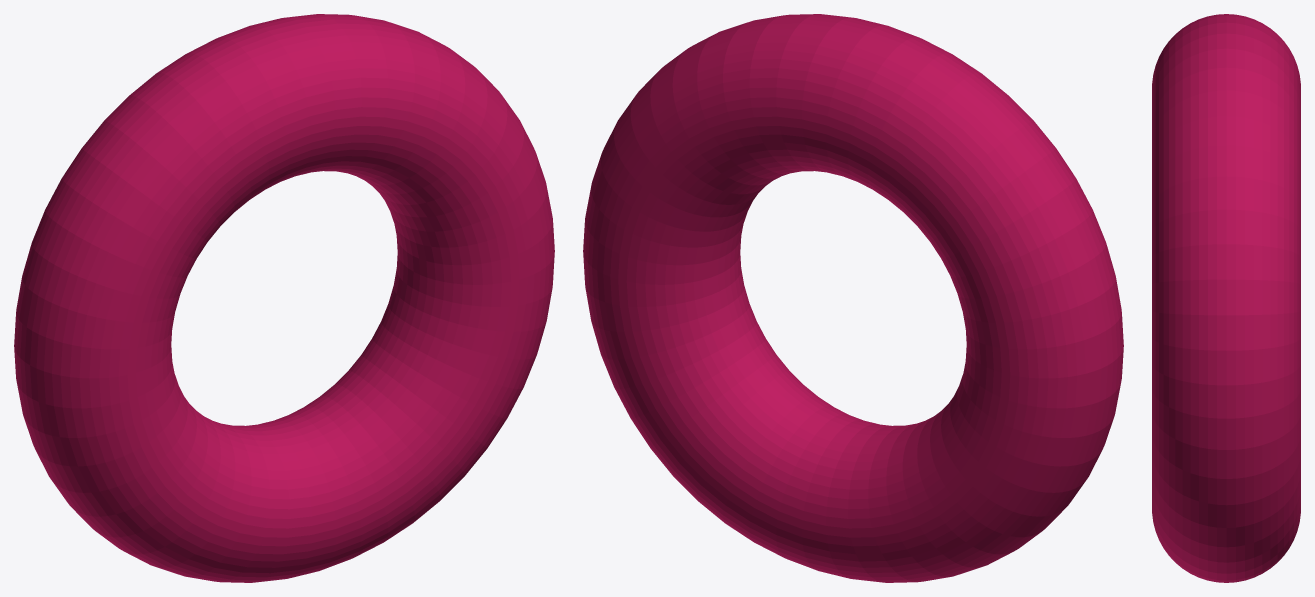
3 renders of one model, left to right at view 1: azimuth 30°, elevation 25°; view 2: azimuth 150°, elevation 25°; view 3: azimuth 270°, elevation 25°, orthographic. The views are drawn at different scales.
Parts seen in each view (by area): view 1: world; view 2: world; view 3: world.
Part boxes in pixels (x1,y1,x2,y2): world: (14, 14, 554, 582); world: (583, 14, 1123, 582); world: (1152, 14, 1300, 582).
Size of the model in its own units: 36.13 by 36.06 by 9.45.
